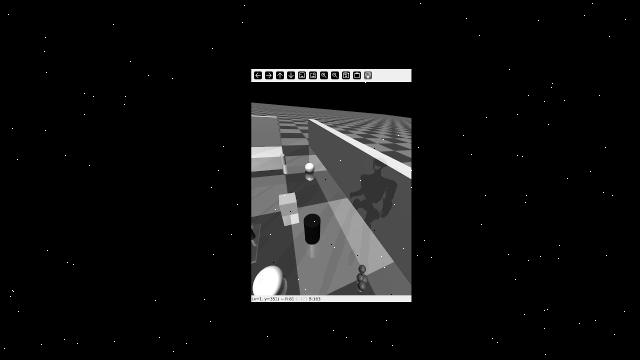cilindro: (302, 209, 327, 243), (277, 149, 289, 166)
cuadrado: (273, 188, 302, 219)
esfera: (245, 261, 293, 299), (304, 160, 316, 172), (356, 264, 367, 275), (359, 276, 367, 281), (359, 283, 364, 288)
